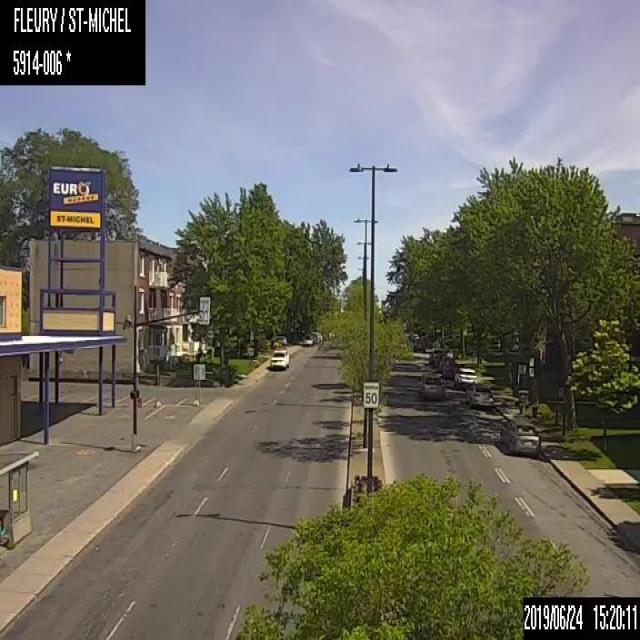vehicle: (499, 418, 540, 451), (465, 382, 494, 407), (421, 372, 444, 398), (453, 366, 476, 389), (269, 348, 289, 369), (438, 355, 454, 371), (428, 349, 443, 364), (412, 335, 424, 352), (303, 332, 314, 345)
